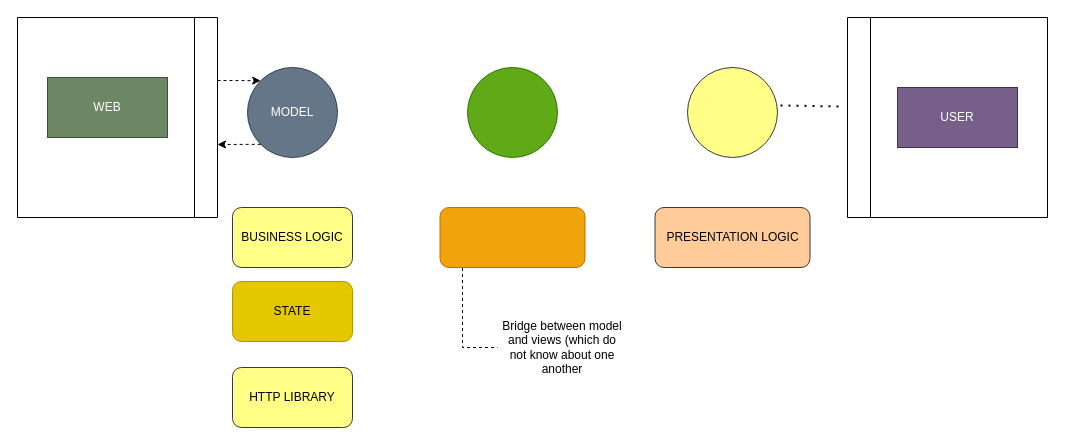
Some shapes in this 1065 by 445 pixel diagram are drawn without their labels. Here are the shapes that lost their labels. From the top down, the centre of each, then its label:
the point at 512,112: CONTROLLER
the point at 732,112: VIEW
the point at 512,237: APPLICATION LOGIC
